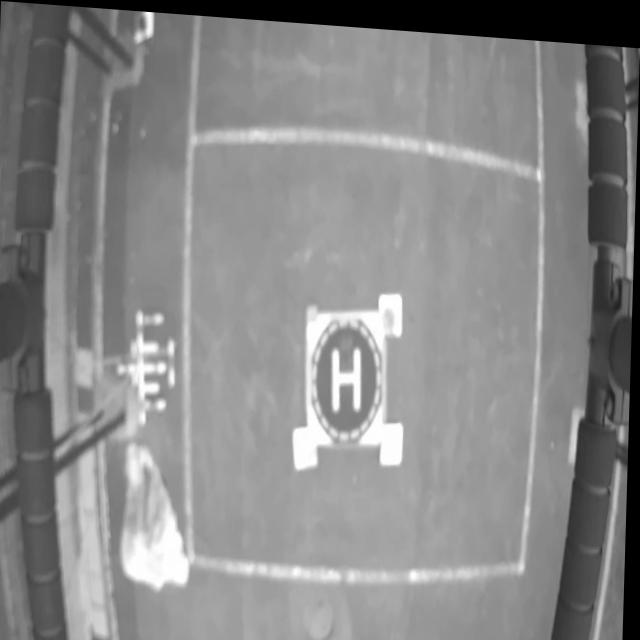Helipad: (333, 342, 363, 405)
